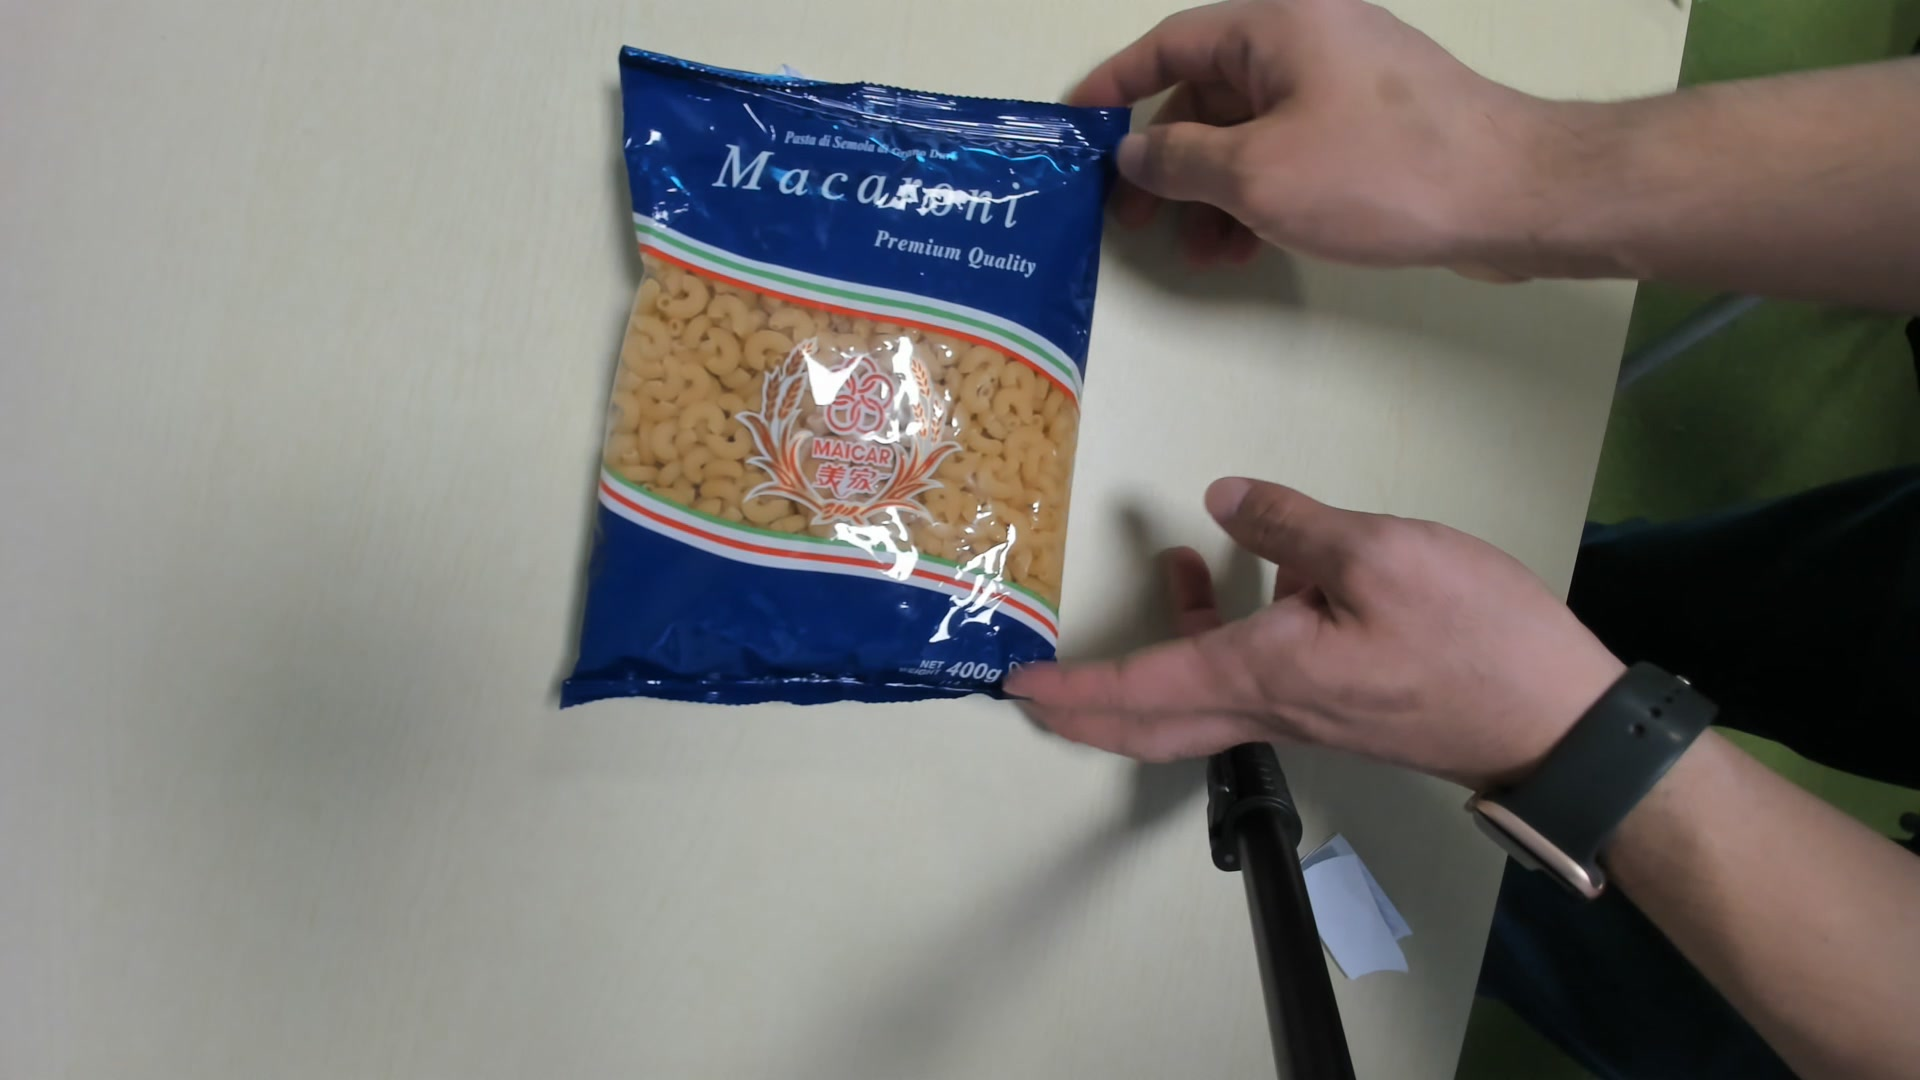Pasta_400-499g_Halal_NonHealthy: (566, 42, 1129, 705)
